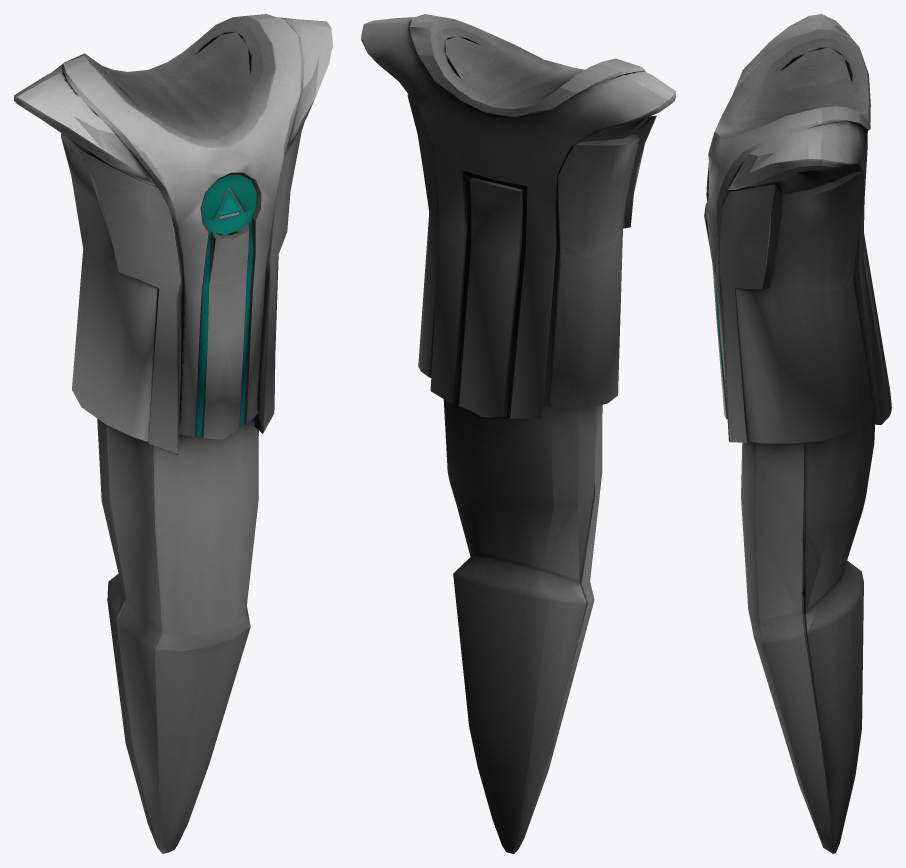
Rendered from bodys.obj.
3 renders of one model, left to right at view 1: azimuth 30°, elevation 25°; view 2: azimuth 150°, elevation 25°; view 3: azimuth 270°, elevation 25°, orthographic. The views are drawn at different scales.
Parts seen in each view (by area): view 1: Body; view 2: Body; view 3: Body.
Boxes of the visible parts, box(x1,y1,x2,y2) form: Body: box(14, 14, 332, 853); Body: box(361, 14, 675, 853); Body: box(704, 14, 891, 853).
Size of the model in its own units: 0.5232 by 1.32 by 0.2859.
Materials: 1 (1 with a texture image).
